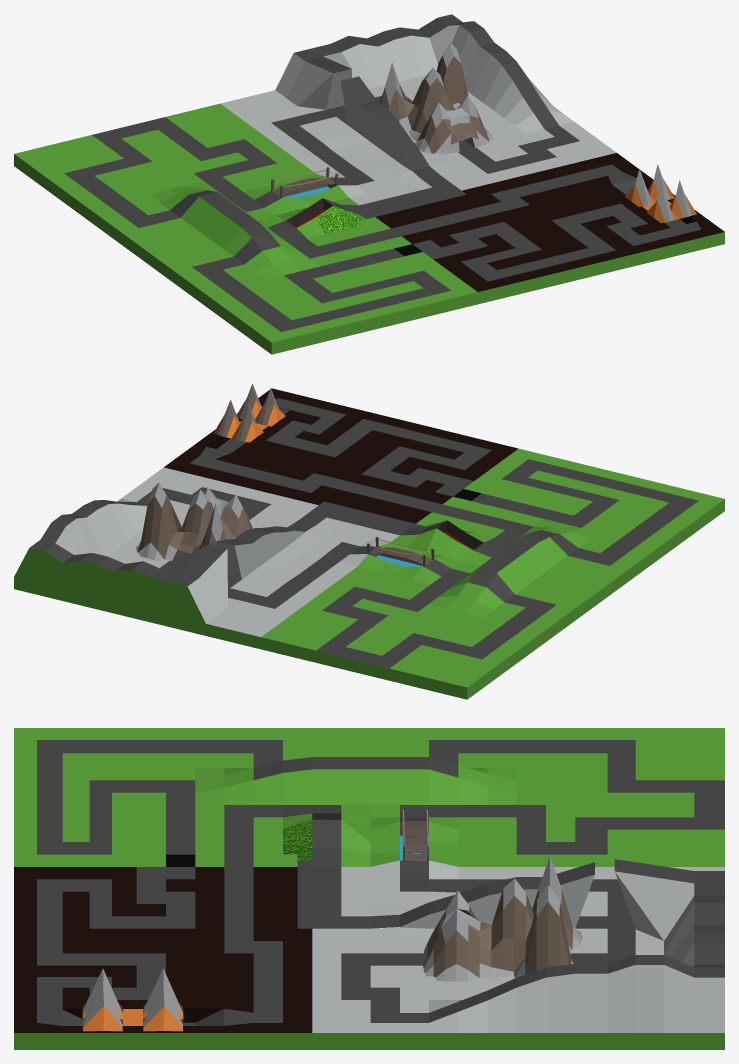
File: sceneCourseTextures.fbx
The picture shows the model from 3 angles, top to bottom: view 1: azimuth 30°, elevation 25°; view 2: azimuth 150°, elevation 25°; view 3: azimuth 270°, elevation 25°; orthographic projection. The views are drawn at different scales.
Visible parts, largest first — view 1: Plane, Mountain, MountainUnder; view 2: Plane, Mountain, MountainUnder; view 3: Plane, Mountain, MountainUnder.
Part boxes in pixels (<box>): Plane: <box>14,14,724,354</box>; Mountain: <box>380,42,493,154</box>; MountainUnder: <box>624,164,696,222</box>; Plane: <box>14,388,724,699</box>; Mountain: <box>135,482,252,561</box>; MountainUnder: <box>213,383,285,442</box>; Plane: <box>14,728,724,1049</box>; Mountain: <box>423,856,582,981</box>; MountainUnder: <box>82,968,183,1031</box>.
Bounding box in the file's own units: 14586 × 2675 × 14363.
